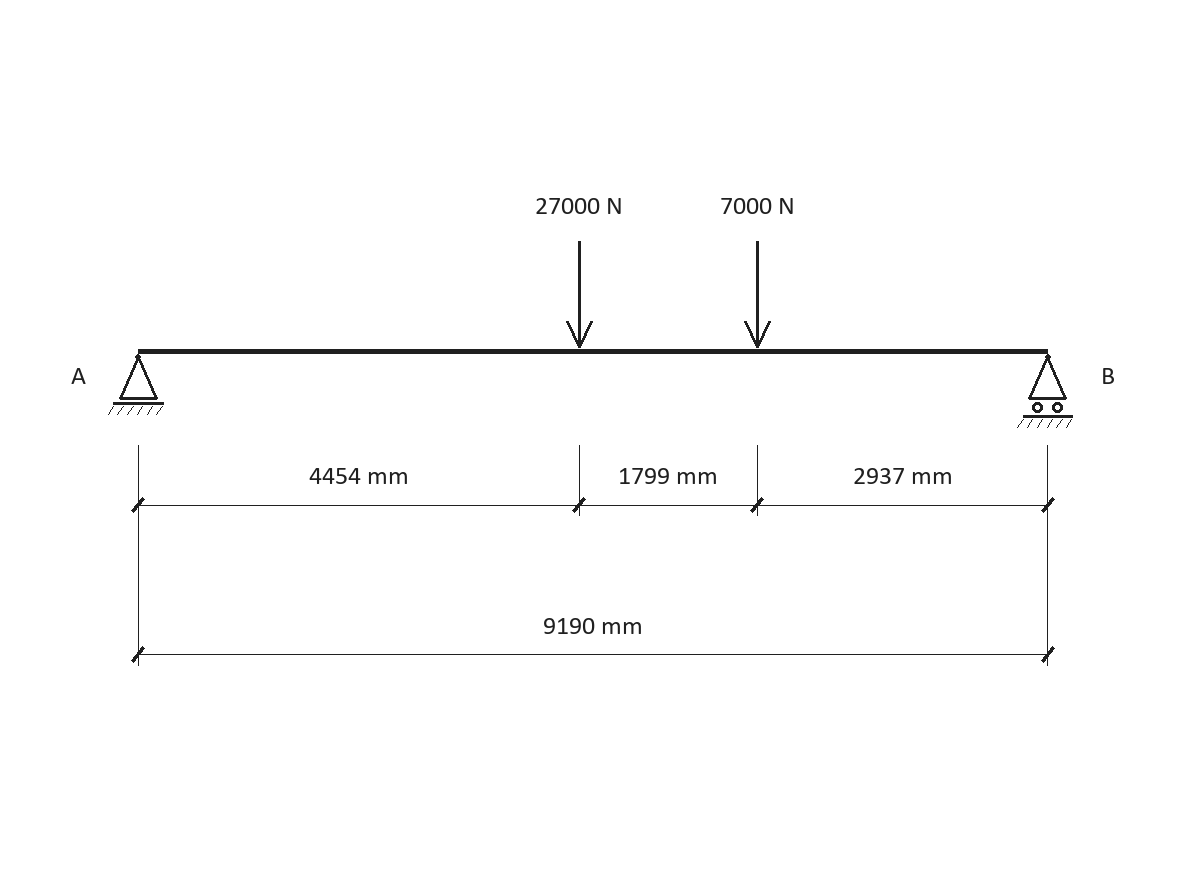pin_support: (108, 354, 164, 415)
point_load: (566, 241, 593, 348), (744, 241, 771, 348)
roller_support: (1017, 354, 1073, 428)
